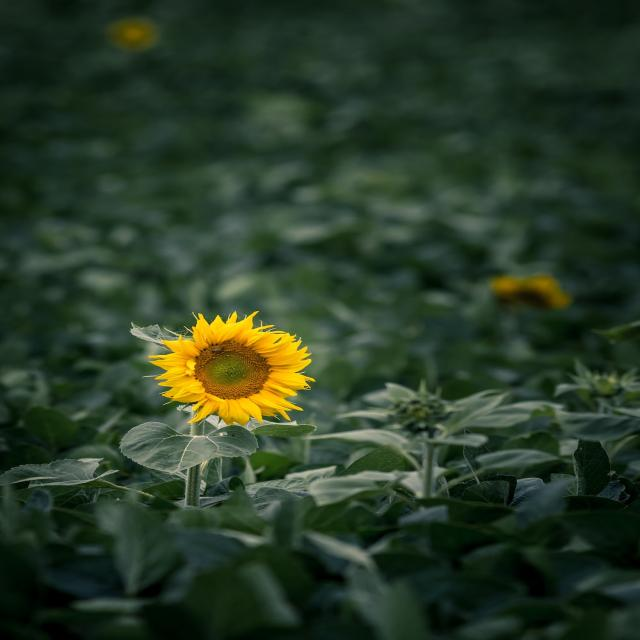sunflower: (141, 301, 318, 434), (482, 272, 580, 318)
